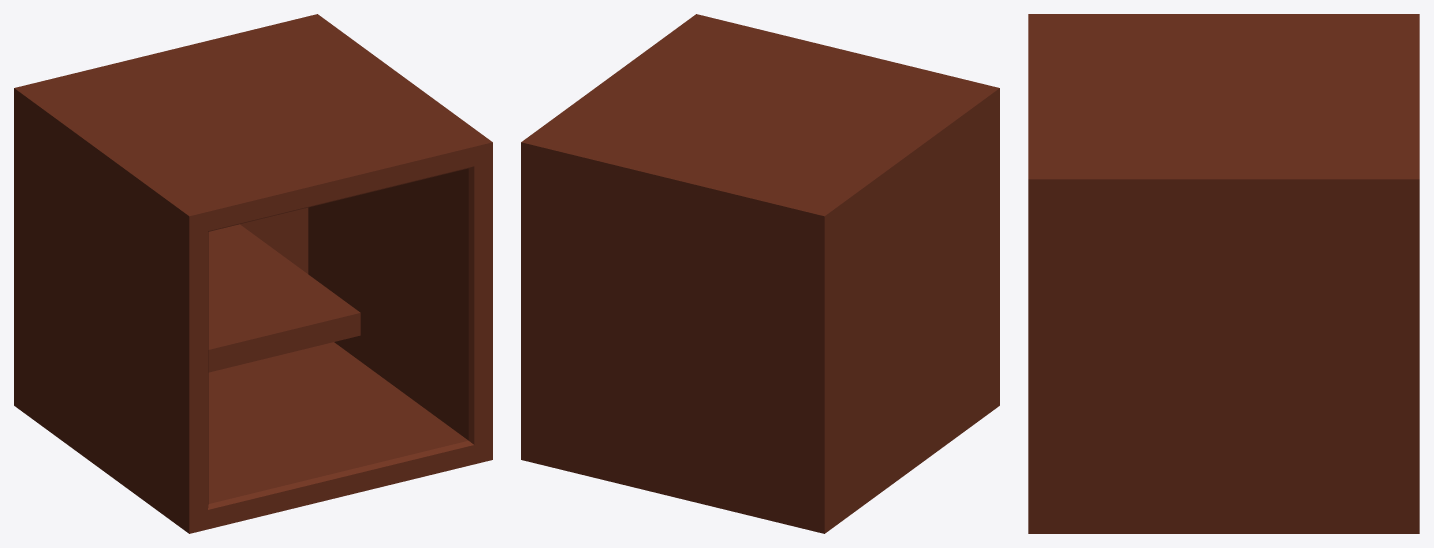
The model's file is Book_Shelves_Mod00.fbx.
The picture shows the model from 3 angles, left to right: view 1: azimuth 30°, elevation 25°; view 2: azimuth 150°, elevation 25°; view 3: azimuth 270°, elevation 25°; orthographic projection. The views are drawn at different scales.
Parts seen in each view (by area): view 1: Book_Shelves_Mod00; view 2: Book_Shelves_Mod00; view 3: Book_Shelves_Mod00.
Part boxes in pixels (bbox=[...]): Book_Shelves_Mod00: bbox=[14, 14, 492, 533]; Book_Shelves_Mod00: bbox=[521, 14, 999, 533]; Book_Shelves_Mod00: bbox=[1028, 14, 1419, 533].
Size of the model in its own units: 70 by 70 by 70.
1 material, 1 textured.
